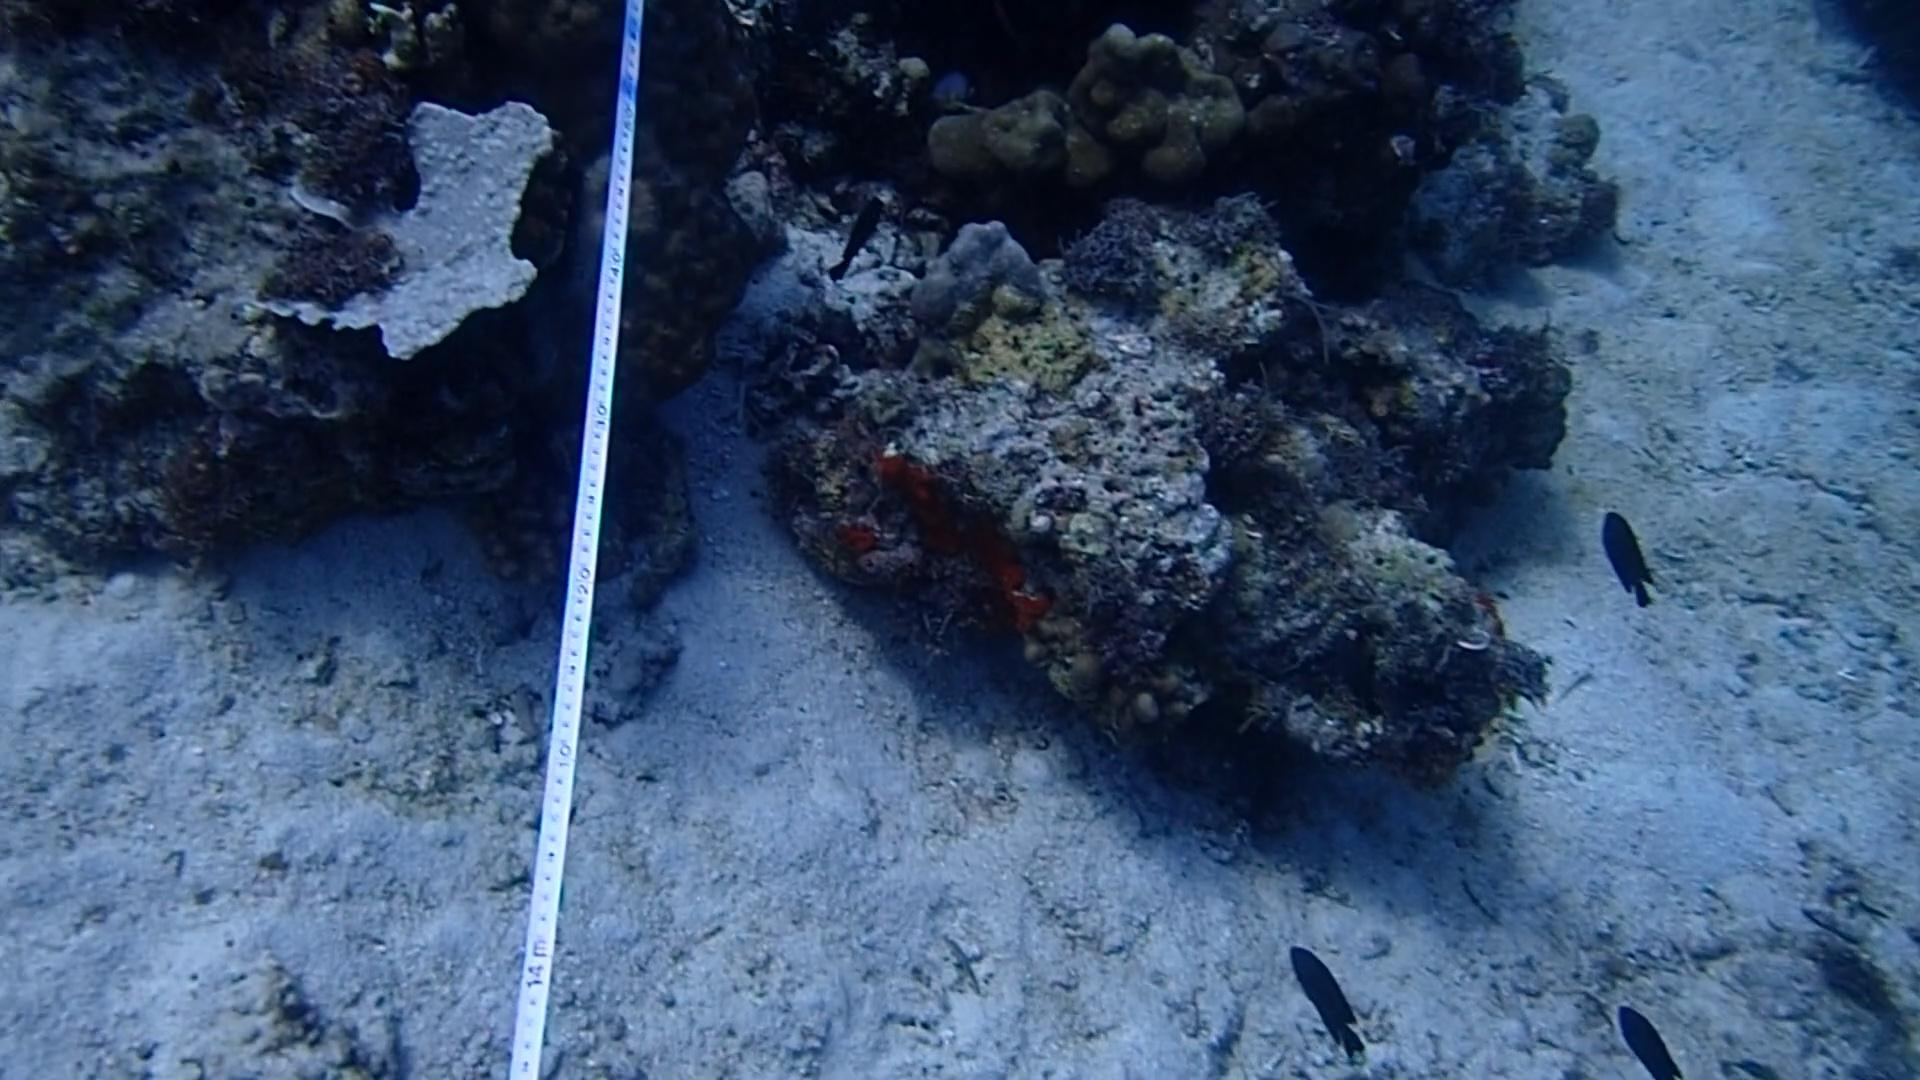Dark Fish: (1282, 931, 1385, 1064), (1580, 491, 1676, 624), (816, 185, 890, 277), (1611, 1001, 1697, 1080)
